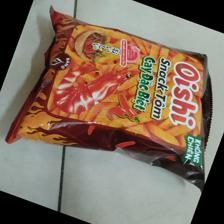Oishi_Cay: (2, 5, 217, 194)
